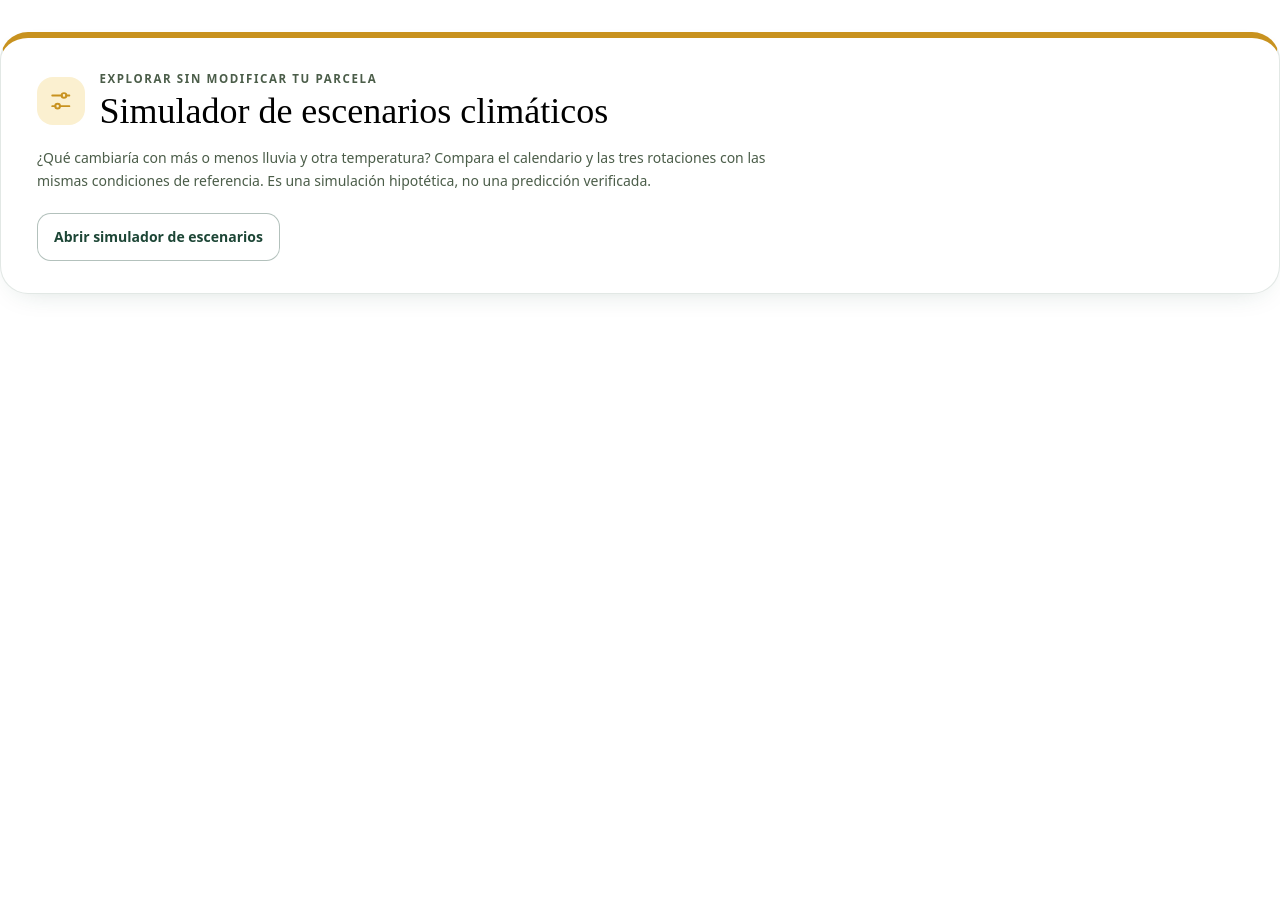
Scenario: Simulador visual, controles, peticiones y sesiones › agrupa cambios rápidos y no presenta la respuesta de un escenario anterior
Click the button "Abrir simulador de escenarios" at {"x": 158, "y": 237}, box [37,213,280,261]
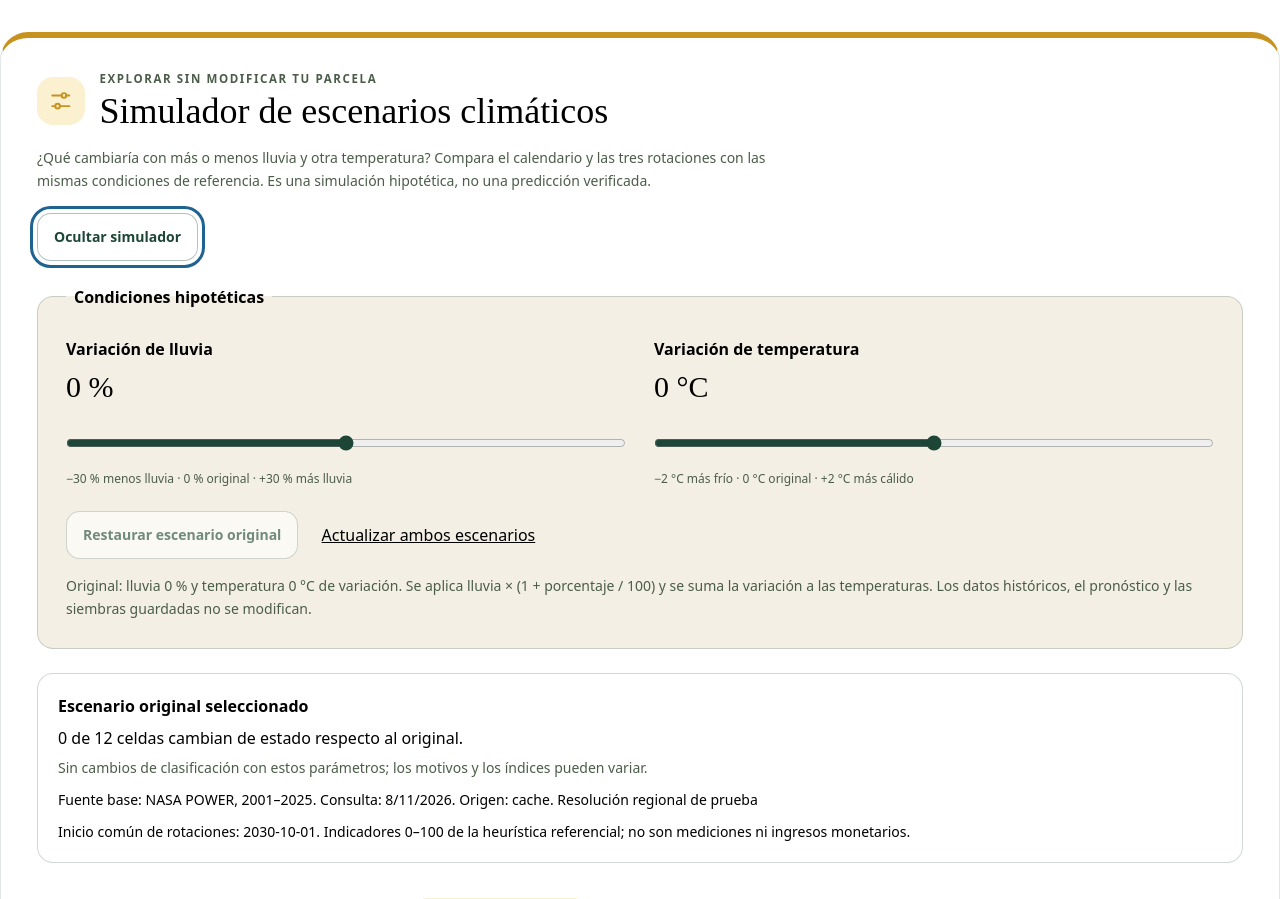
Expected: the text "Escenario original seleccionado" is shown, [58,695,308,717]
Set the slider labelled "Variación de lluvia" to "-10" at {"x": 255, "y": 443}, box [66,421,626,465]
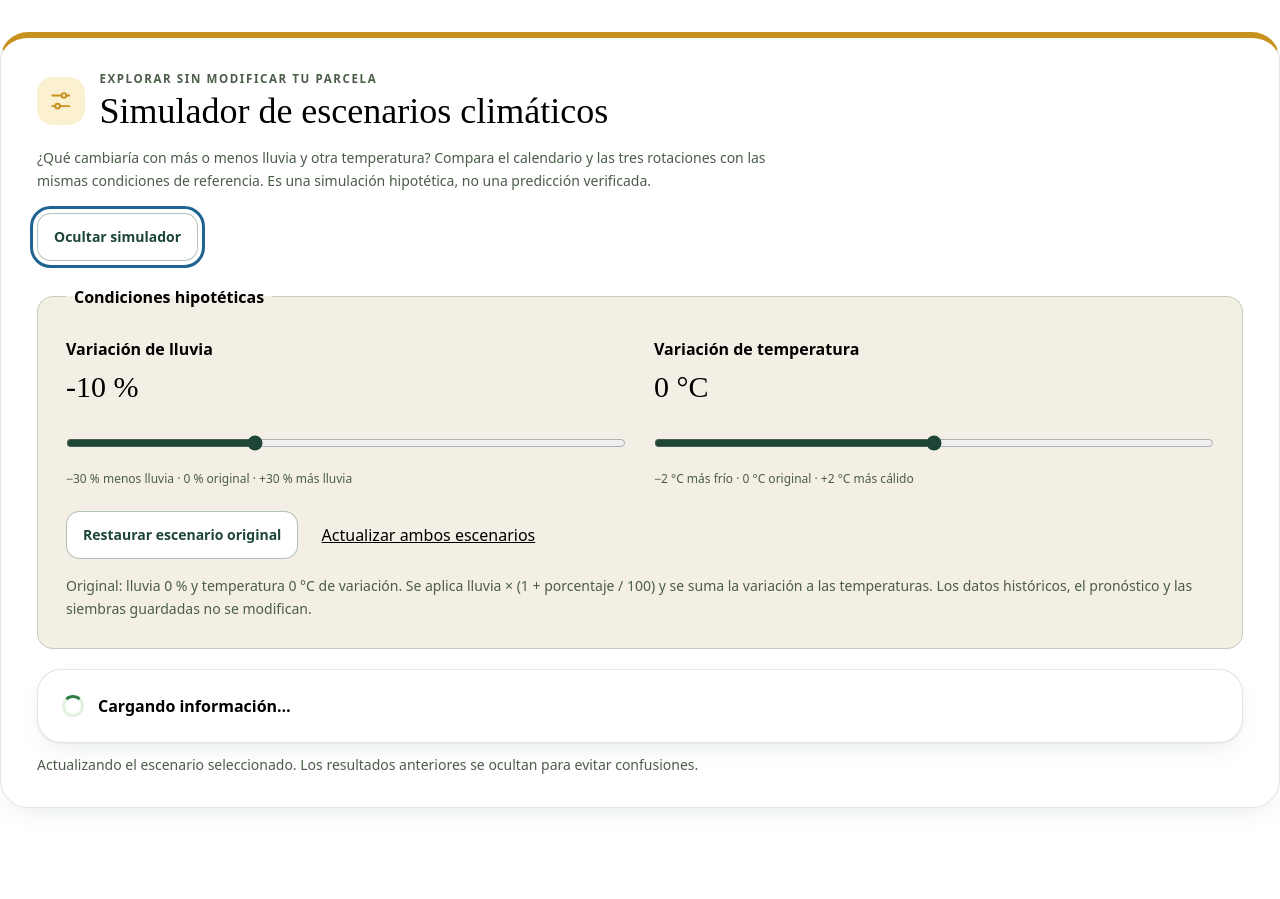
Set the slider labelled "Variación de lluvia" to "-20" at {"x": 165, "y": 443}, box [66,421,626,465]
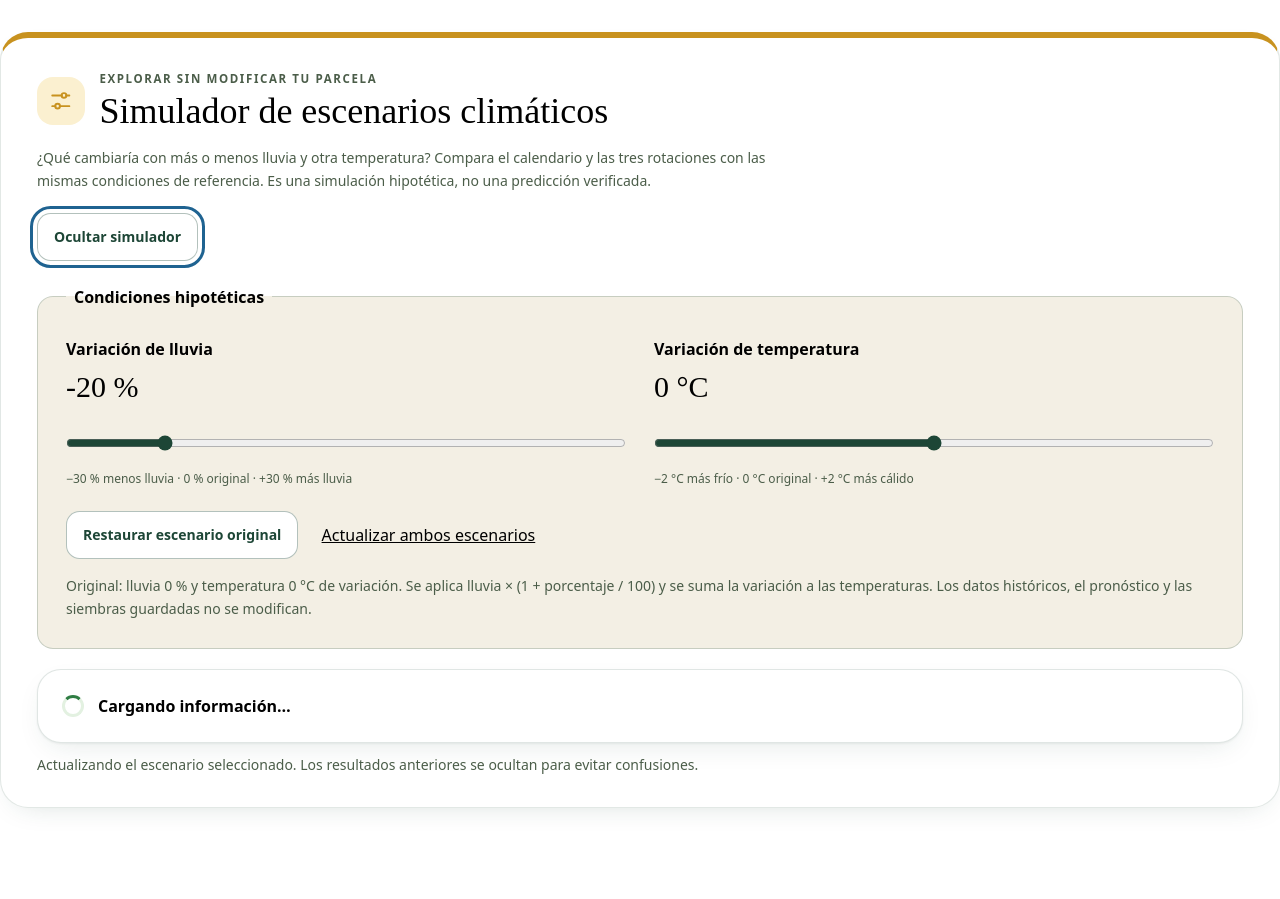
Set the slider labelled "Variación de lluvia" to "-30" at {"x": 74, "y": 443}, box [66,421,626,465]
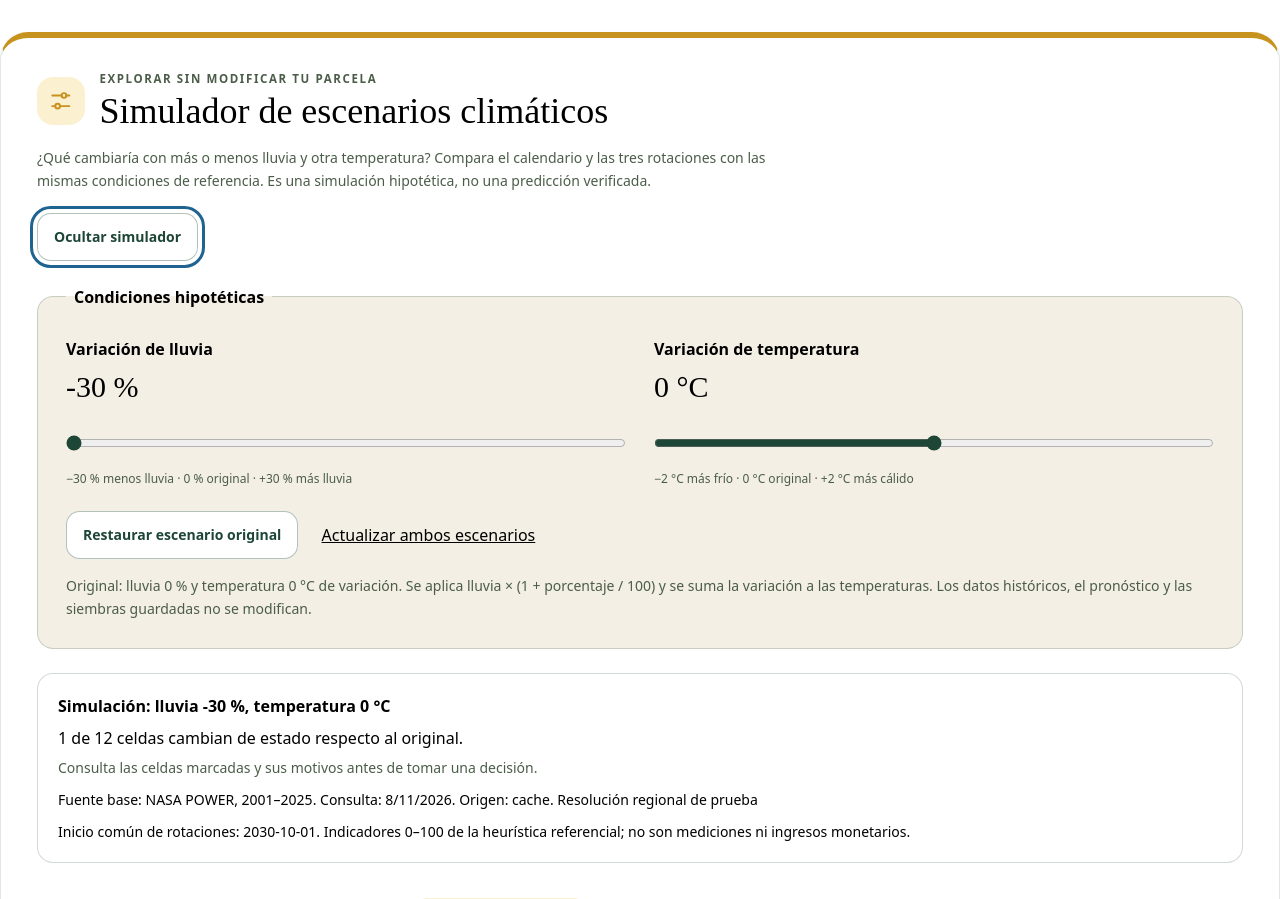
Expected: the text "Simulación: lluvia -30 %, temperatura 0 °C" is shown, [58,695,390,717]
